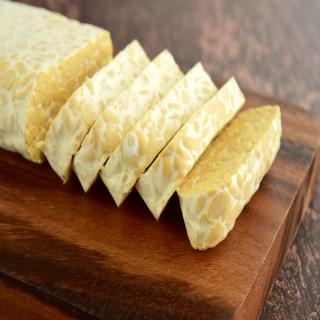Tempe: (1, 2, 114, 166), (100, 62, 220, 209), (38, 39, 152, 185), (135, 76, 247, 222), (177, 104, 283, 252)
